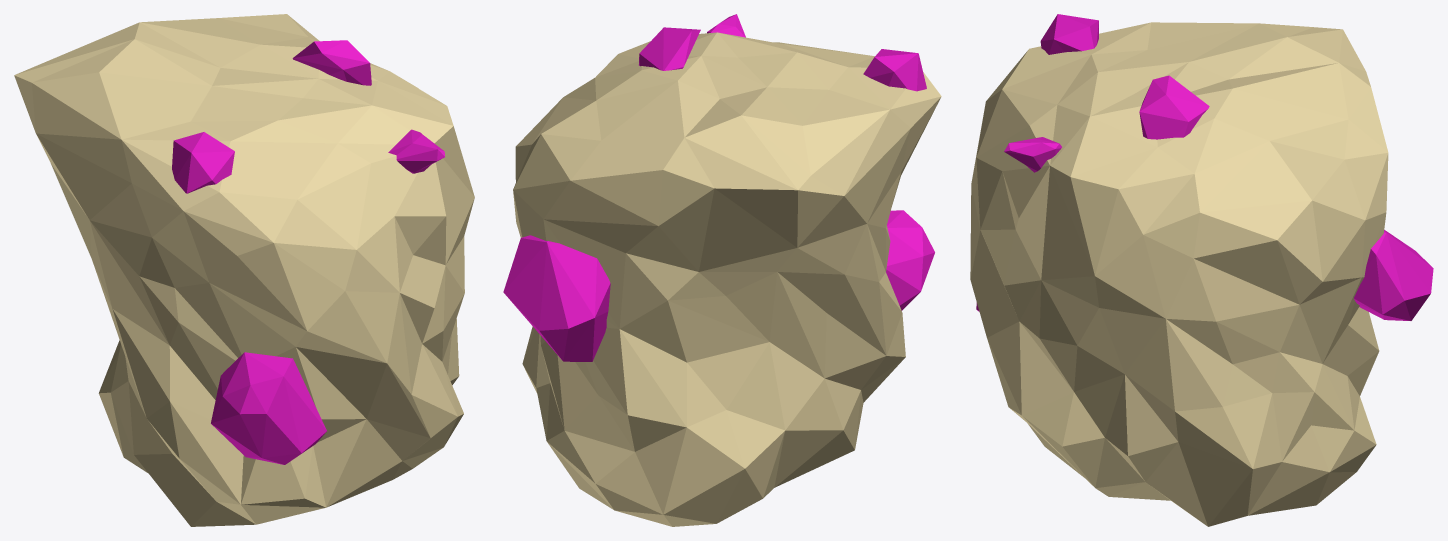
File: CrystalOre (41).fbx
The picture shows the model from 3 angles, left to right: view 1: azimuth 30°, elevation 25°; view 2: azimuth 150°, elevation 25°; view 3: azimuth 270°, elevation 25°; orthographic projection. The views are drawn at different scales.
Visible parts, largest first — view 1: Asteroid261; view 2: Asteroid261; view 3: Asteroid261.
Boxes of the visible parts, <box> form: Asteroid261: <box>14,14,474,526</box>; Asteroid261: <box>503,14,941,526</box>; Asteroid261: <box>970,14,1433,526</box>.
Bounding box in the file's own units: 581 × 705 × 693.
